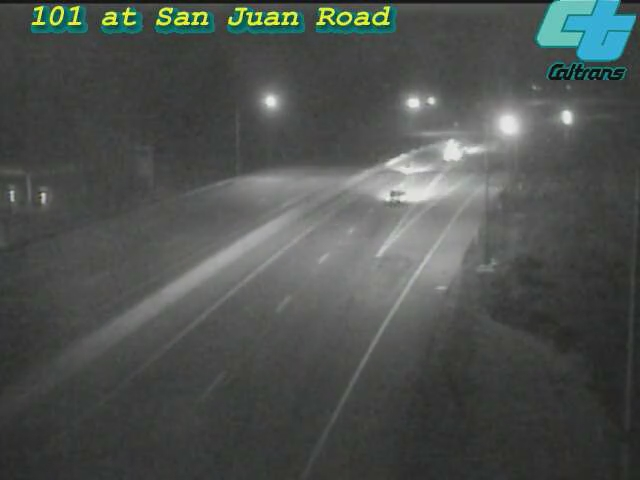vehicle: (369, 128, 449, 208), (356, 157, 436, 237), (483, 100, 533, 150), (537, 93, 587, 143), (431, 125, 481, 175)
